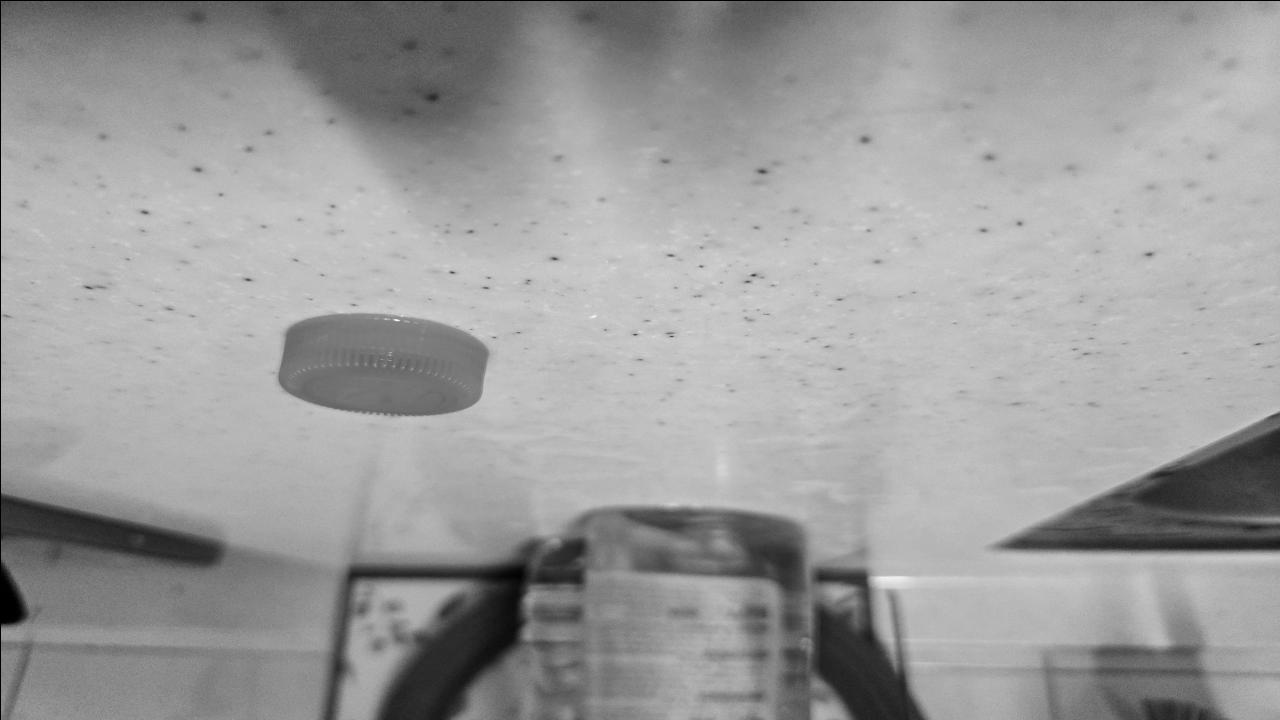bottle_cap: (282, 320, 482, 415)
